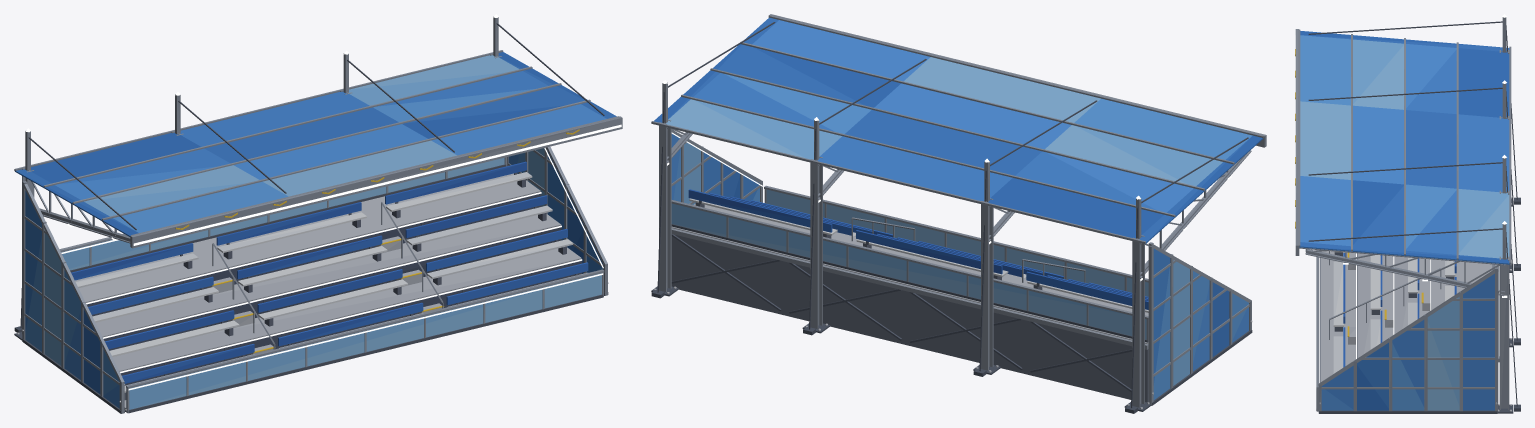
File: stand-city.glb
The picture shows the model from 3 angles, left to right: view 1: azimuth 30°, elevation 25°; view 2: azimuth 150°, elevation 25°; view 3: azimuth 270°, elevation 25°; orthographic projection. The views are drawn at different scales.
Parts seen in each view (by area): view 1: stand-city; view 2: stand-city; view 3: stand-city.
Boxes of the visible parts, box(x1,y1,x2,y2) form: stand-city: box(14, 14, 622, 413); stand-city: box(651, 14, 1266, 413); stand-city: box(1295, 14, 1520, 413).
Bounding box in the file's own units: 22.1 × 8.98 × 9.73.
